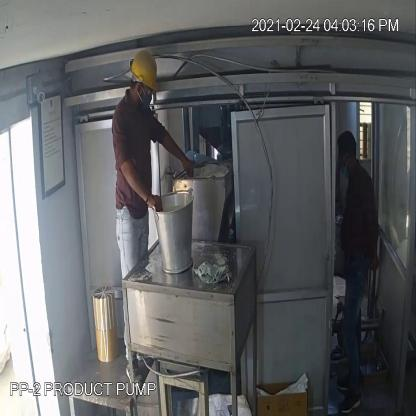helmet: (130, 47, 159, 89)
